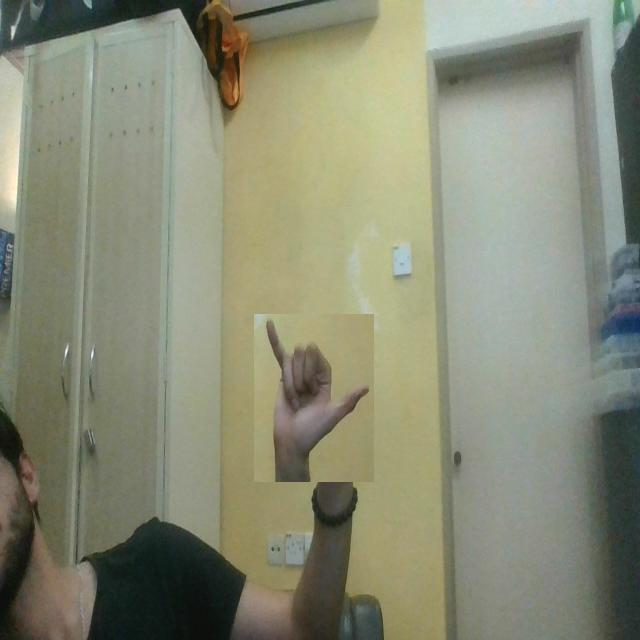shaka: (254, 314, 374, 482)
